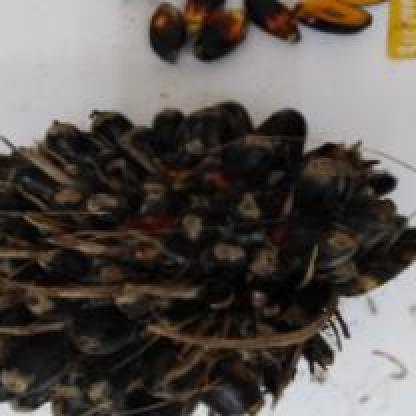Unripe: (0, 86, 416, 416)
